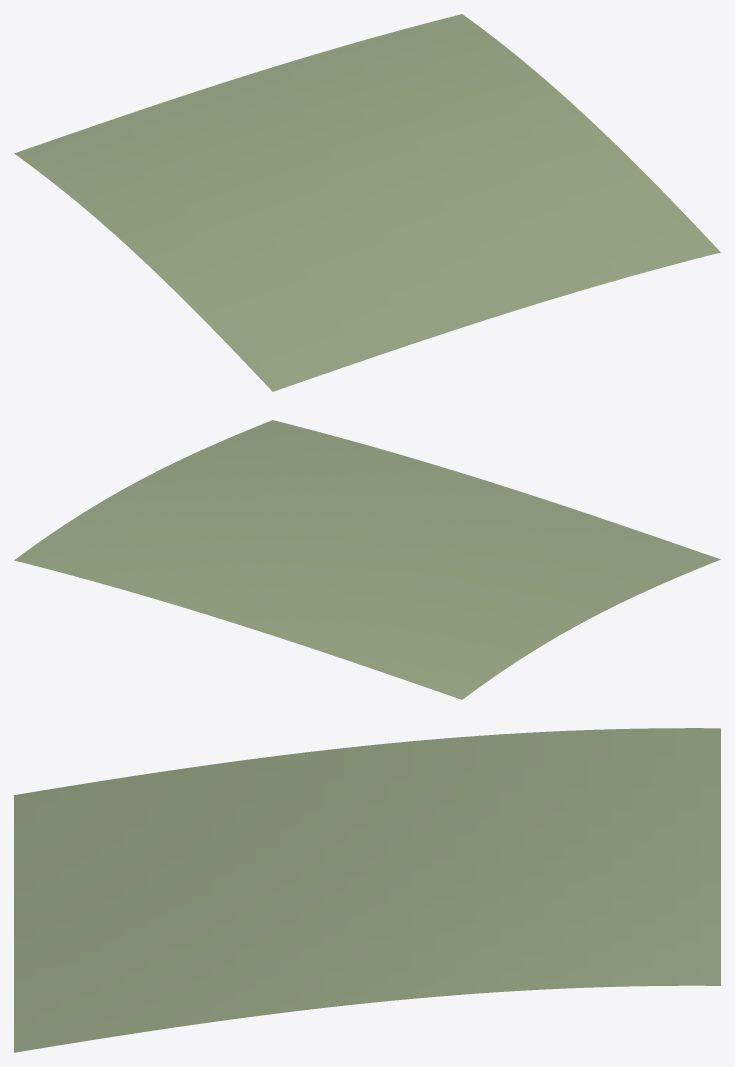
The model's file is valley-10-15.glb.
3 views of the same model, one above another, from view 1: azimuth 30°, elevation 25°; view 2: azimuth 150°, elevation 25°; view 3: azimuth 270°, elevation 25° (orthographic). The views are drawn at different scales.
Parts seen in each view (by area): view 1: valley-10-15; view 2: valley-10-15; view 3: valley-10-15.
Boxes of the visible parts, x1=… form: valley-10-15: x1=14, y1=14, x2=720, y2=391; valley-10-15: x1=14, y1=420, x2=720, y2=699; valley-10-15: x1=14, y1=728, x2=720, y2=1052.
Bounding box in the file's own units: 256 × 43.23 × 256.
